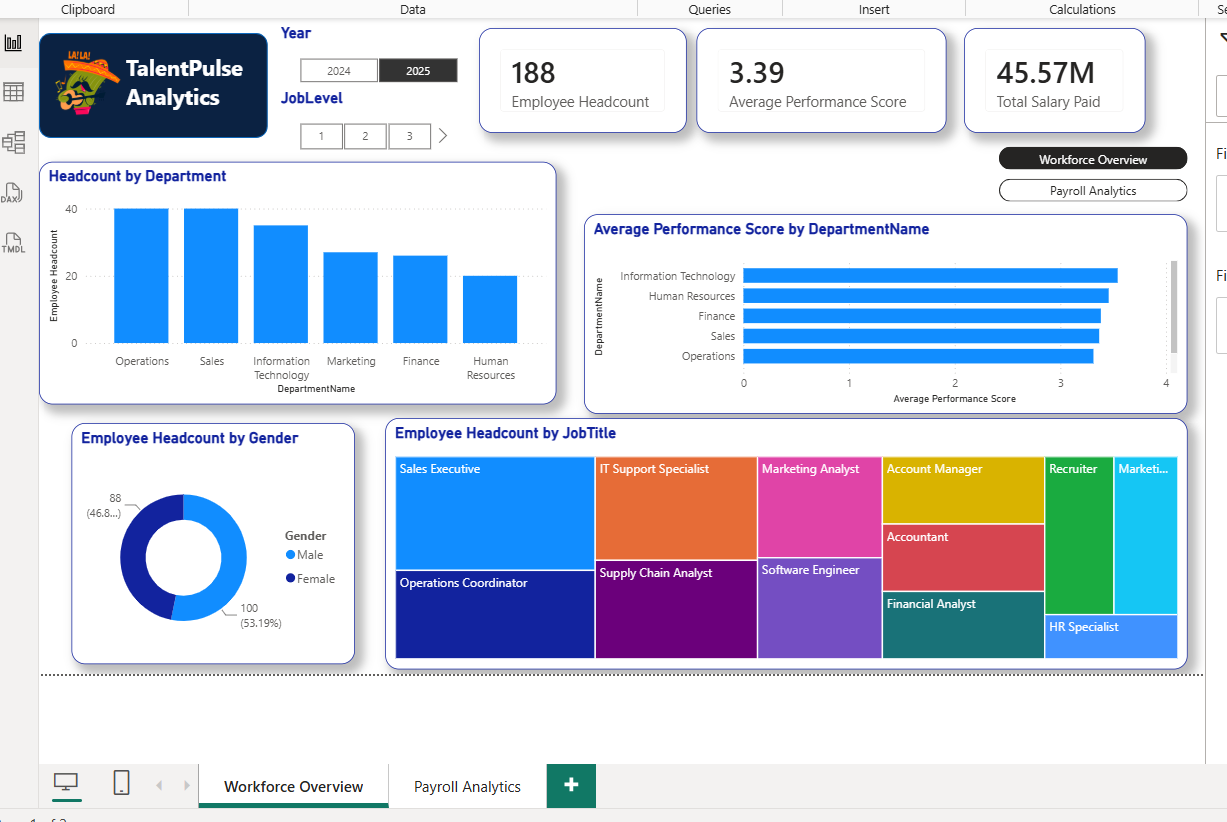

Layout of this report page (visuals, bound fields, positions):
{"tool":"powerbi","page":{"name":"Workforce Overview","canvas":[1280,720],"ordinal":0},"visuals":[{"type":"slicer","title":"Year","fields":{"Values":["DimDate.Year"]},"box":[260.7,5.5,222.3,71.4],"z":0},{"type":"slicer","title":"JobLevel","fields":{"Values":["DimJobRole.JobLevel"]},"box":[260.7,76.8,193.5,74.1],"z":1000},{"type":"cardVisual","fields":{"Data":["FactMonthlyWorkforce.Employee Headcount"]},"box":[483,11,227.8,115.3],"z":2000},{"type":"cardVisual","fields":{"Data":["FactMonthlyWorkforce.Total Salary Paid"]},"box":[1015.4,11,199,115.3],"z":3000},{"type":"cardVisual","fields":{"Data":["FactMonthlyWorkforce.Average Performance Score"]},"box":[721.8,11,274.4,115.3],"z":4000},{"type":"clusteredColumnChart","title":"Headcount by Department","fields":{"Category":["DimDepartment.DepartmentName"],"Y":["FactMonthlyWorkforce.Employee Headcount"]},"box":[0,157.8,568.1,266.2],"z":5000},{"type":"donutChart","fields":{"Y":["FactMonthlyWorkforce.Employee Headcount"],"Category":["DimEmployee.Gender"]},"box":[35.7,444.6,311.5,264.8],"z":6000},{"type":"clusteredBarChart","fields":{"Category":["DimDepartment.DepartmentName"],"Y":["FactMonthlyWorkforce.Average Performance Score"]},"box":[598.3,215.4,662.8,219.6],"z":7000},{"type":"treemap","fields":{"Group":["DimJobRole.JobTitle"],"Values":["FactMonthlyWorkforce.Employee Headcount"]},"box":[380.1,439.1,881,275.8],"z":8000},{"type":"shape","box":[0,16.5,251.1,115.3],"z":9000},{"type":"textbox","box":[90.6,32.9,170.2,98.8],"z":10000},{"type":"image","box":[16.5,35.7,74.1,71.4],"z":11000},{"type":"pageNavigator","box":[1053.9,141.3,207.2,61.7],"z":12000}]}

Visuals, with their boxes on the page's 1280x720 design canvas (x1, y1, x2, y2). These are canvas units, not pixel positions in the 1227x822 screenshot, which may show the page scaled, cropped or inside an application window:
"Year" slicer: <bbox>261, 6, 483, 77</bbox>
"JobLevel" slicer: <bbox>261, 77, 454, 151</bbox>
cardVisual - FactMonthlyWorkforce.Employee Headcount: <bbox>483, 11, 711, 126</bbox>
cardVisual - FactMonthlyWorkforce.Total Salary Paid: <bbox>1015, 11, 1214, 126</bbox>
cardVisual - FactMonthlyWorkforce.Average Performance Score: <bbox>722, 11, 996, 126</bbox>
"Headcount by Department" clusteredColumnChart: <bbox>0, 158, 568, 424</bbox>
donutChart - FactMonthlyWorkforce.Employee Headcount x DimEmployee.Gender: <bbox>36, 445, 347, 709</bbox>
clusteredBarChart - DimDepartment.DepartmentName x FactMonthlyWorkforce.Average Performance Score: <bbox>598, 215, 1261, 435</bbox>
treemap - DimJobRole.JobTitle x FactMonthlyWorkforce.Employee Headcount: <bbox>380, 439, 1261, 715</bbox>
shape: <bbox>0, 16, 251, 132</bbox>
textbox: <bbox>91, 33, 261, 132</bbox>
image: <bbox>16, 36, 91, 107</bbox>
pageNavigator: <bbox>1054, 141, 1261, 203</bbox>
